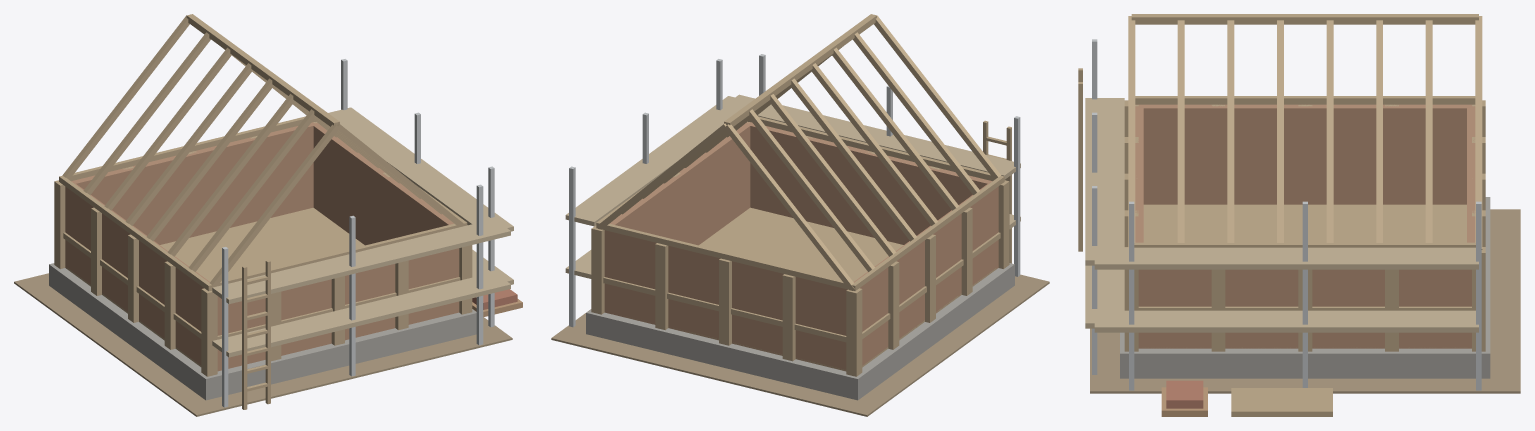
Rendered from pig_pen_site_9.glb.
The picture shows the model from 3 angles, left to right: view 1: azimuth 30°, elevation 25°; view 2: azimuth 150°, elevation 25°; view 3: azimuth 270°, elevation 25°; orthographic projection. The views are drawn at different scales.
Visible parts, largest first — view 1: body; view 2: body; view 3: body.
Boxes of the visible parts, x1,y1,x2,y2 form: body: (14, 14, 522, 416); body: (551, 14, 1049, 416); body: (1078, 14, 1520, 416).
Bounding box in the file's own units: 2.1 × 1.37 × 1.91.
